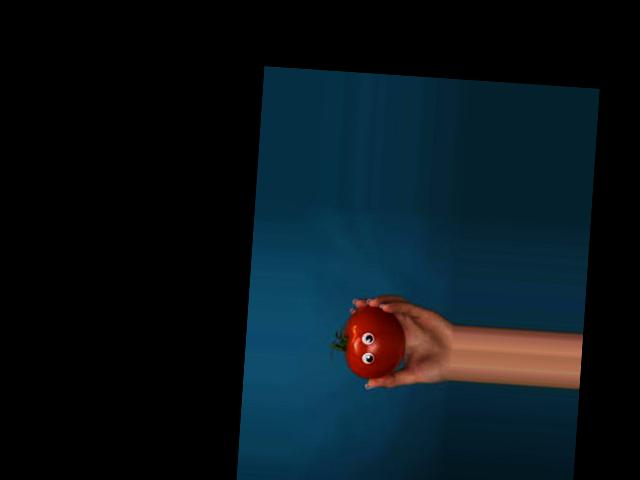tomato: (340, 304, 408, 381)
